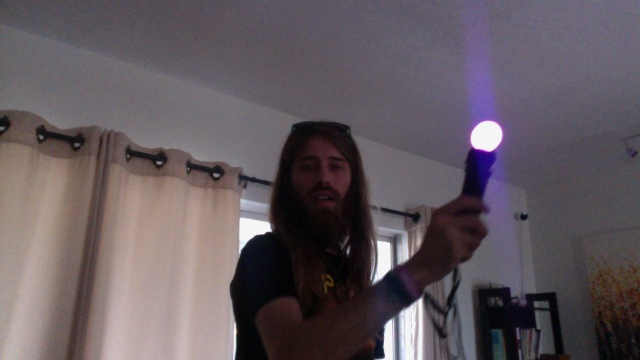wand: (471, 122, 503, 152)
